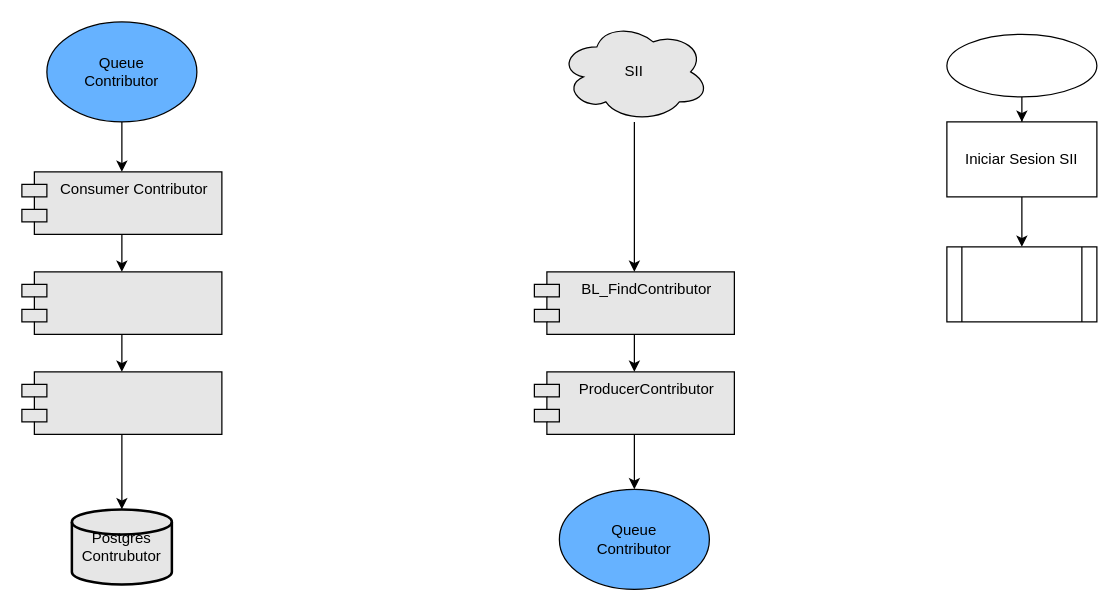
Image size: 1119x611. Some labels were removed from this diagram. The centre of each missing label's shape, as x and y in pixels:
"BL_controbutor_sii" belongs at point 121,302.
"Certificado SII" belongs at point 1021,65.
"DL_controbutor_sii" belongs at point 121,402.
"Operacion" belongs at point 1021,284.
